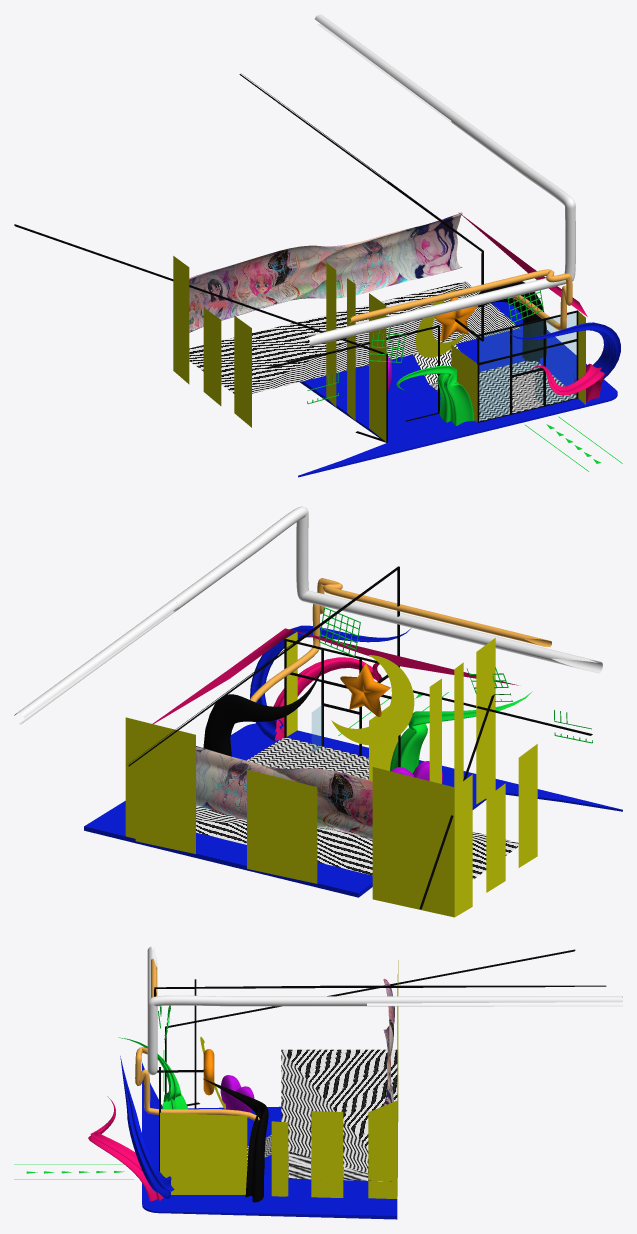
Rendered from agc-store.gltf.
The picture shows the model from 3 angles, top to bottom: view 1: azimuth 30°, elevation 25°; view 2: azimuth 150°, elevation 25°; view 3: azimuth 270°, elevation 25°; orthographic projection. The views are drawn at different scales.
Parts seen in each view (by area): view 1: Plane.011, Box, Cube.010, Object.001, Cube.004, Cube.011, Cube.012, Cube.009, Object.011, Object.007, BezierCurve, Object.009 (+9 smaller); view 2: Cube.014, Object.001, Box, Plane.011, Cube.011, Cube.012, Cube.010, Object.011, Cube.009, BezierCurve, BezierCircle, Box.001 (+11 smaller); view 3: Cube.010, Box, Cube.013, Cube, Object.001, BezierCurve, Object.009, Object.002, Object.011, Object.010, Plane.008, Object.007 (+3 smaller).
Boxes of the visible parts, box(x1,y1,x2,y2) form: Plane.011: box(189, 212, 462, 332); Box: box(298, 302, 617, 477); Cube.010: box(189, 281, 519, 393); Object.001: box(307, 14, 575, 346); Cube.004: box(479, 313, 576, 420); Cube.011: box(173, 256, 251, 427); Cube.012: box(326, 262, 386, 441); Cube.009: box(429, 360, 576, 421); Object.011: box(350, 269, 572, 330); Object.007: box(396, 365, 474, 425); BezierCurve: box(477, 281, 547, 362); Object.009: box(509, 322, 620, 382); Cube.014: box(125, 717, 454, 917); Object.001: box(14, 506, 602, 724); Box: box(84, 723, 622, 897); Plane.011: box(196, 746, 372, 840); Cube.011: box(454, 744, 537, 916); Cube.012: box(429, 638, 495, 804); Cube.010: box(196, 805, 518, 879); Object.011: box(249, 578, 551, 702); Cube.009: box(247, 737, 368, 779); BezierCurve: box(203, 665, 323, 756); BezierCircle: box(331, 655, 414, 745); Box.001: box(152, 628, 518, 724); Cube.010: box(264, 1049, 397, 1181); Box: box(142, 1062, 397, 1219); Cube.013: box(271, 1101, 397, 1198); Cube: box(160, 1112, 247, 1194); Object.001: box(147, 946, 622, 1075); BezierCurve: box(203, 1078, 268, 1202); Object.009: box(120, 1056, 174, 1198); Object.002: box(154, 985, 606, 1072); Object.011: box(135, 958, 259, 1120); Object.010: box(88, 1096, 164, 1201); Plane.008: box(165, 949, 575, 1106); Object.007: box(119, 1037, 187, 1109).
Size of what is drawn, in the model's own units: 23.44 by 12 by 33.56.
30 materials, 2 textured.
